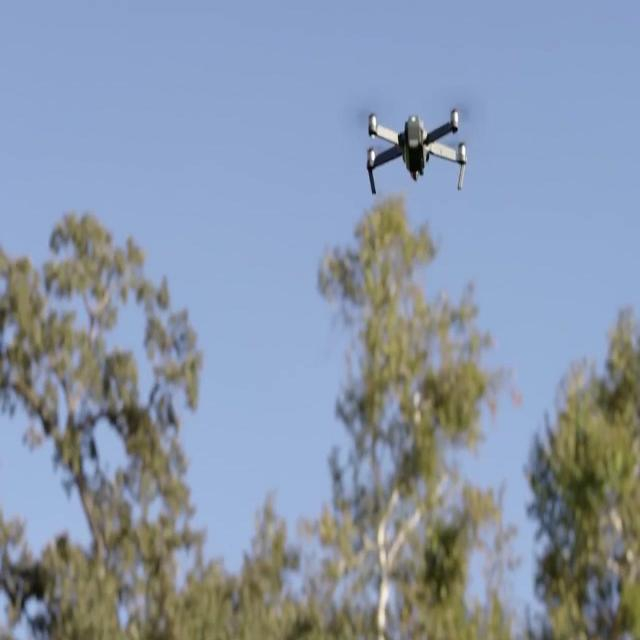UAV: (366, 109, 467, 194)
